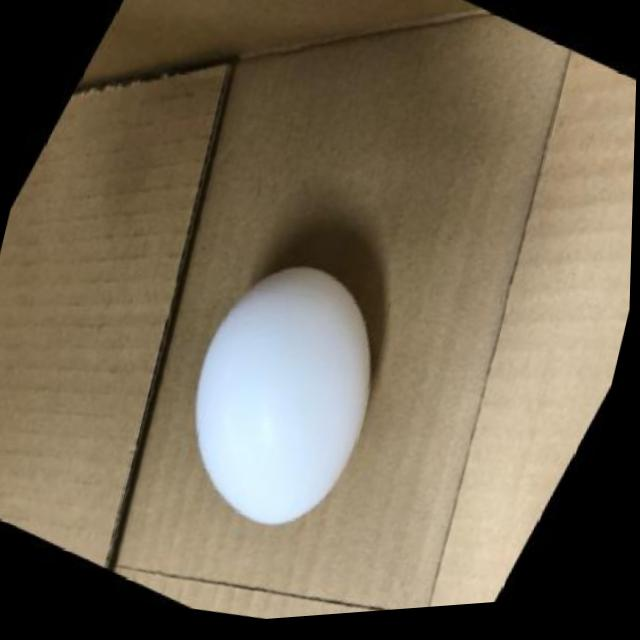egg: (160, 236, 415, 558)
